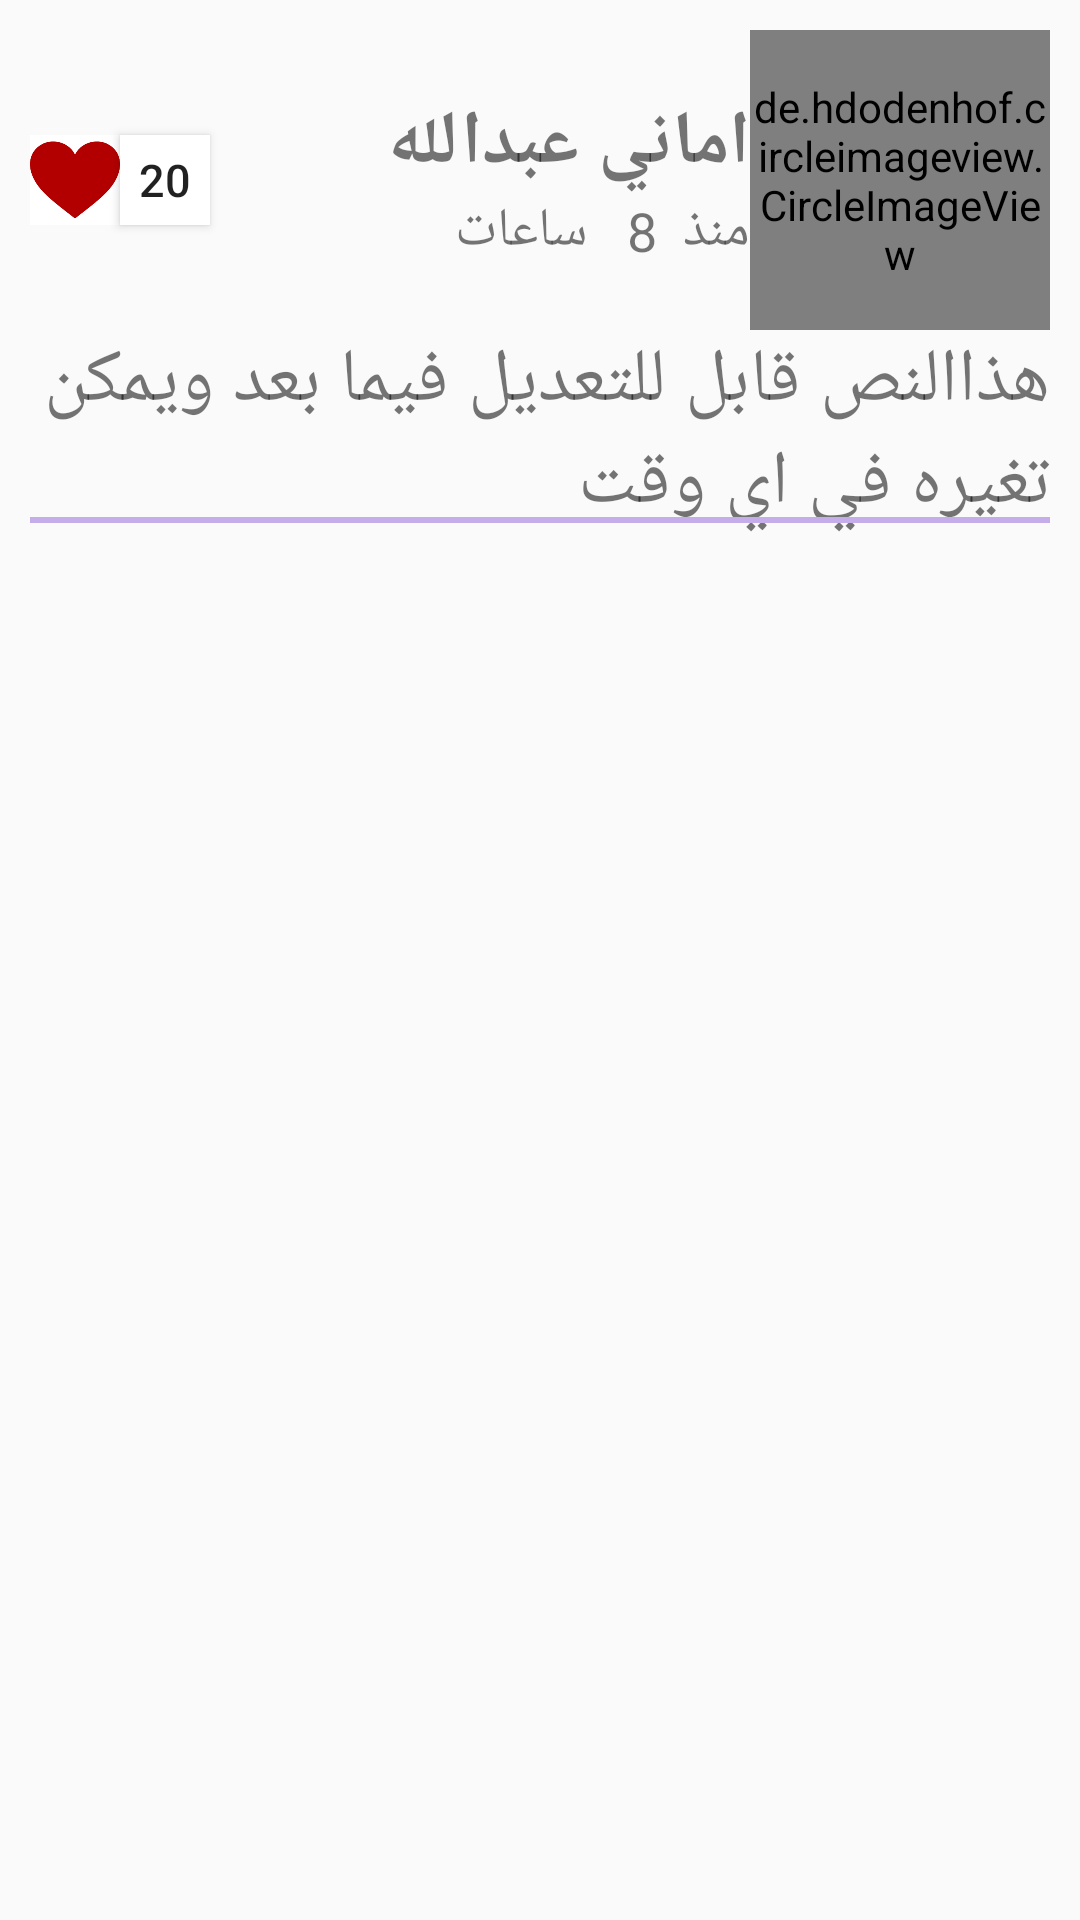

Where icons sit on this 1080x1920 app screen, as BBox(x1, y1, x2, y2):
lov: BBox(30, 141, 120, 221)
